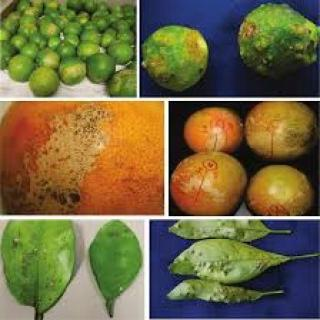orange: (22, 64, 62, 106), (85, 48, 112, 90), (55, 57, 85, 93)
